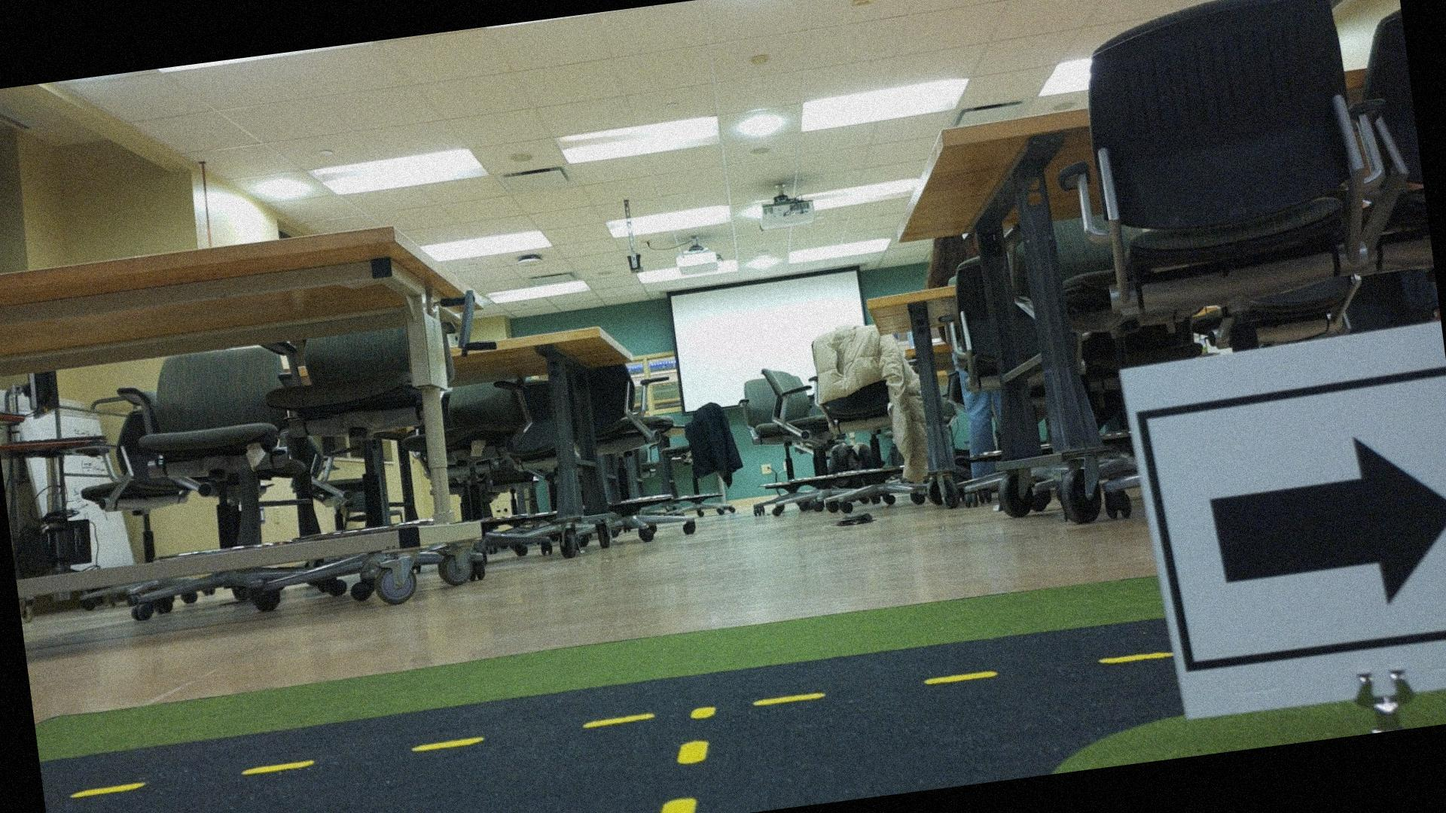turnleft: (1130, 327, 1445, 723)
yellowline: (72, 651, 1149, 799), (653, 739, 715, 812)
